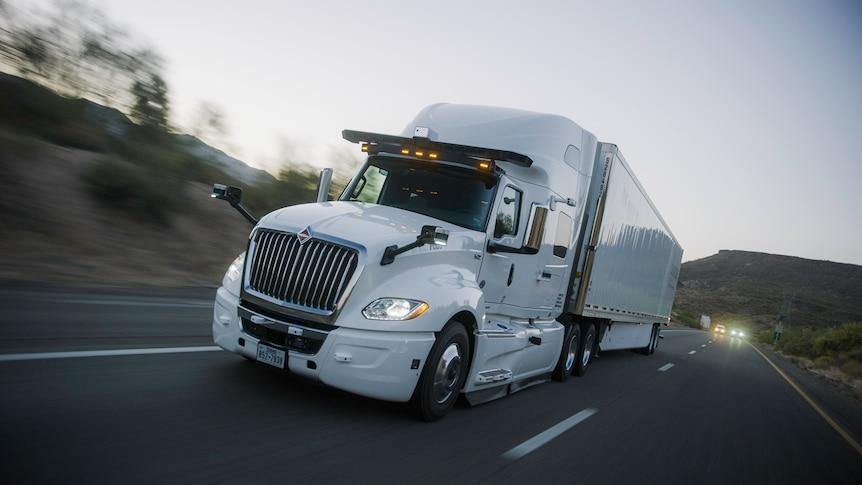truck: (212, 101, 685, 423)
